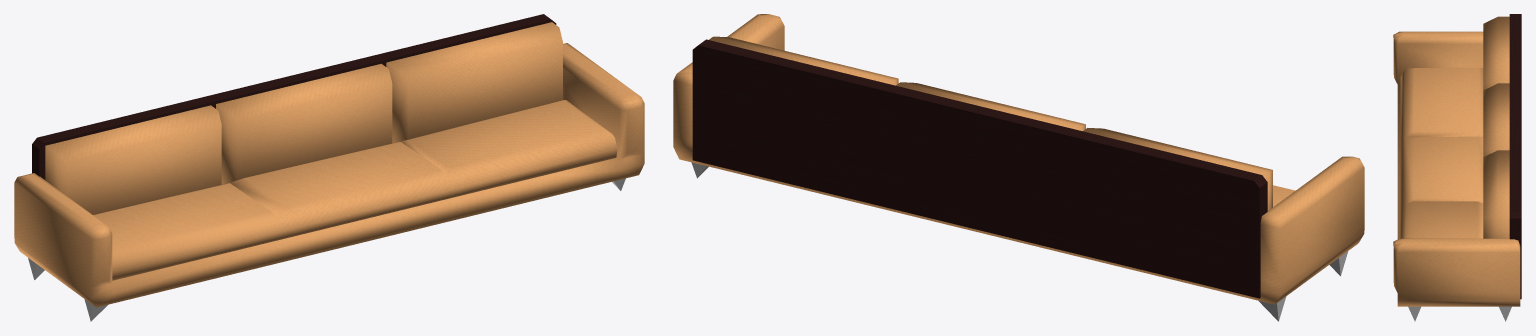
Rendered from Long_Sofa_A.FBX.
3 views of the same model, side by side, from view 1: azimuth 30°, elevation 25°; view 2: azimuth 150°, elevation 25°; view 3: azimuth 270°, elevation 25° (orthographic). The views are drawn at different scales.
Parts seen in each view (by area): view 1: Long_Sofa; view 2: Long_Sofa; view 3: Long_Sofa.
Boxes of the visible parts, box(x1,y1,x2,y2) form: Long_Sofa: box(14, 14, 644, 321); Long_Sofa: box(673, 14, 1364, 321); Long_Sofa: box(1393, 14, 1521, 321).
Bounding box in the file's own units: 685 × 157 × 171.
